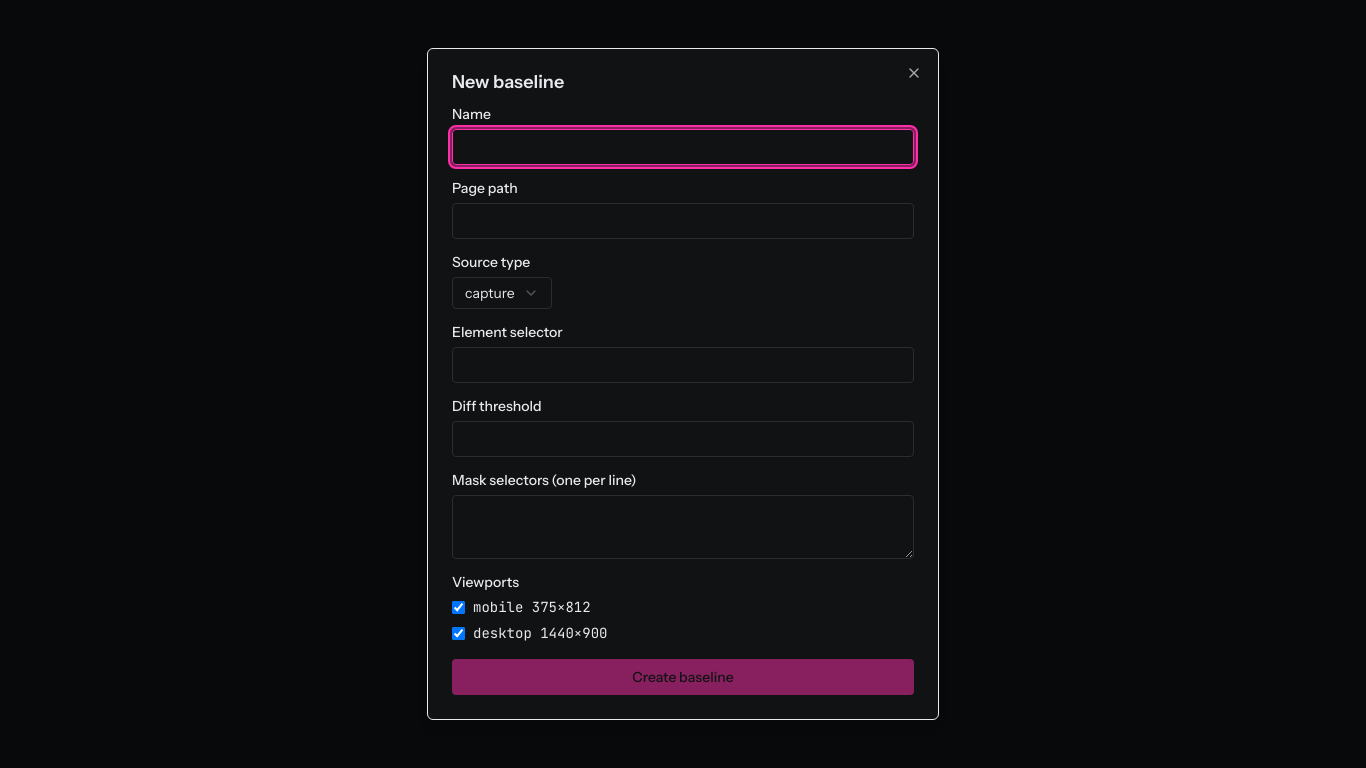
Test: BaselineDialog › disables submit for a page path missing the leading slash
The image size is (1366, 768).
In the field labelled "Name": point(683, 147) [452, 129, 914, 165], type "home"
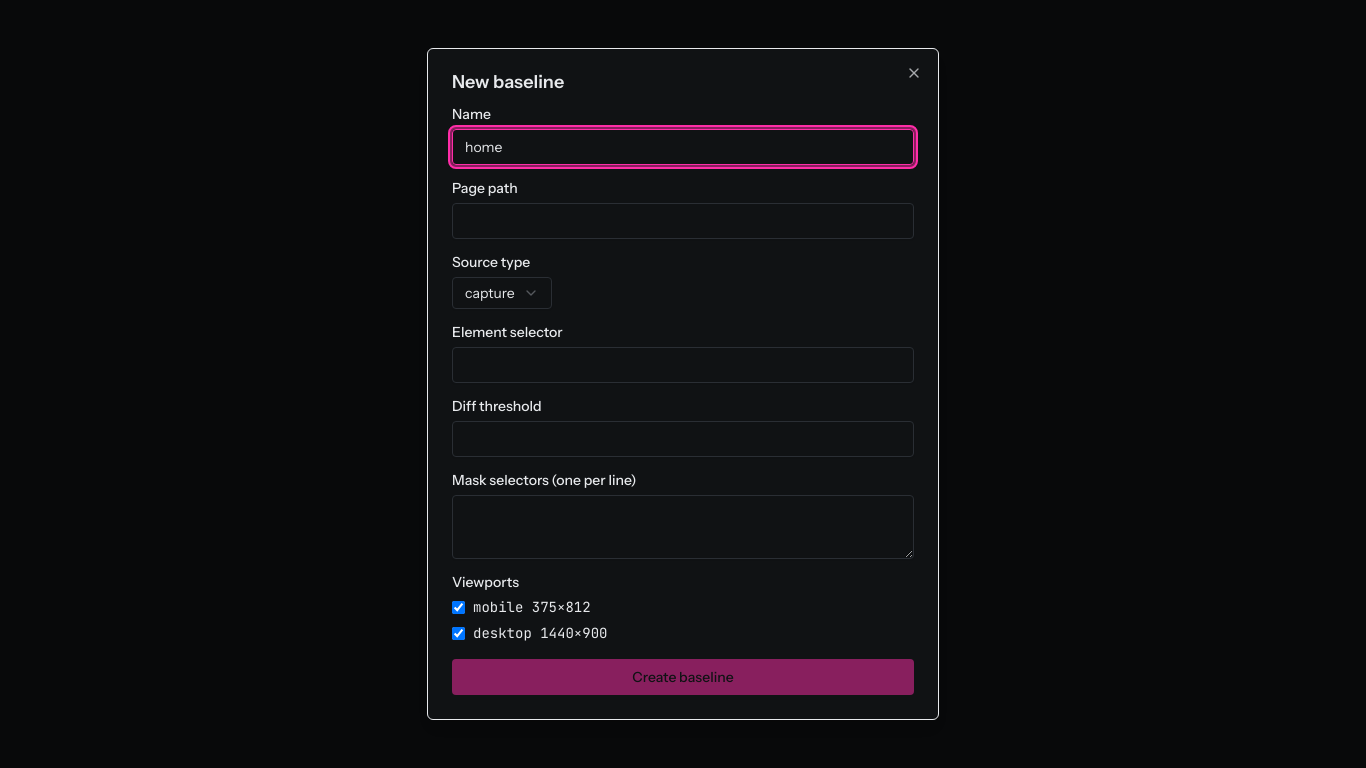
In the field labelled "Page path": point(683, 221) [452, 203, 914, 239], type "home"
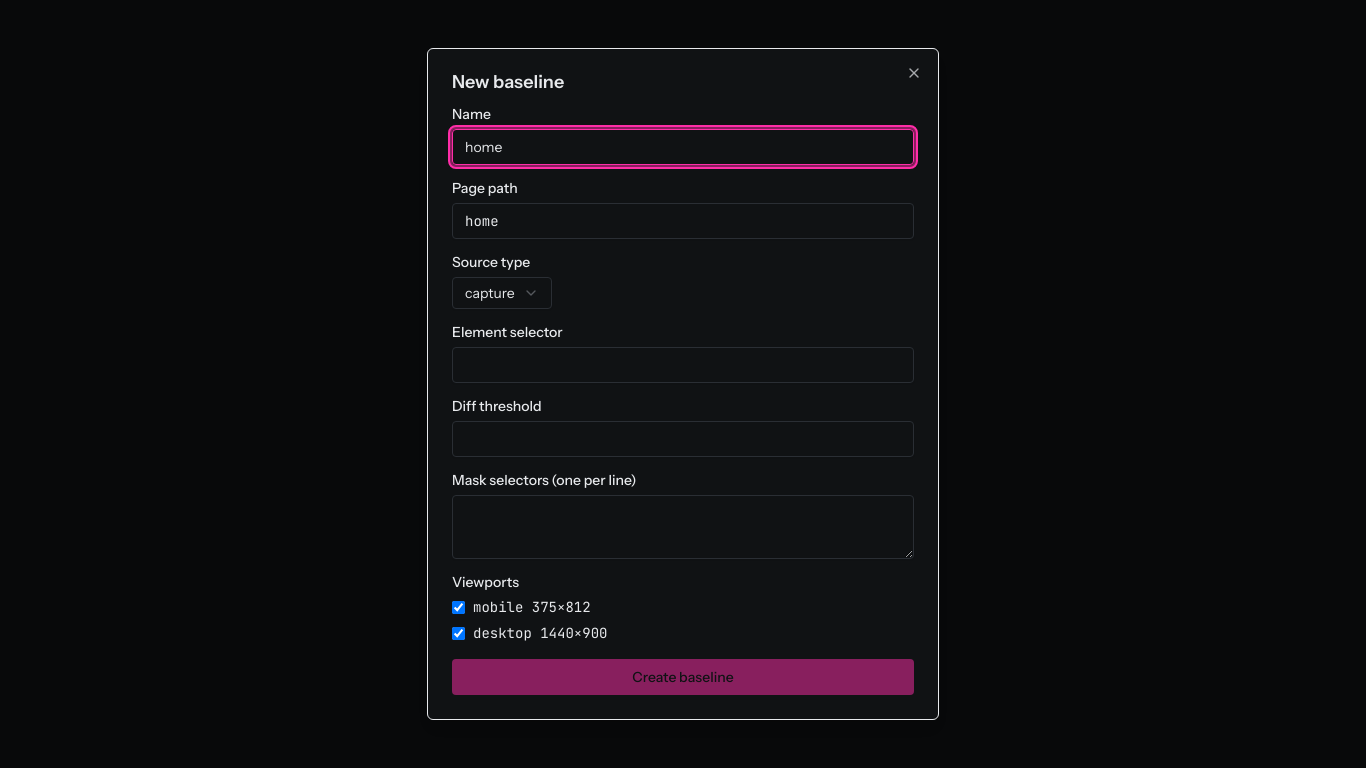
Expected: the button "Create baseline" is disabled, [452, 659, 914, 695]
Replace the text in the field labelled "Page path" with "/home": point(683, 221) [452, 203, 914, 239]
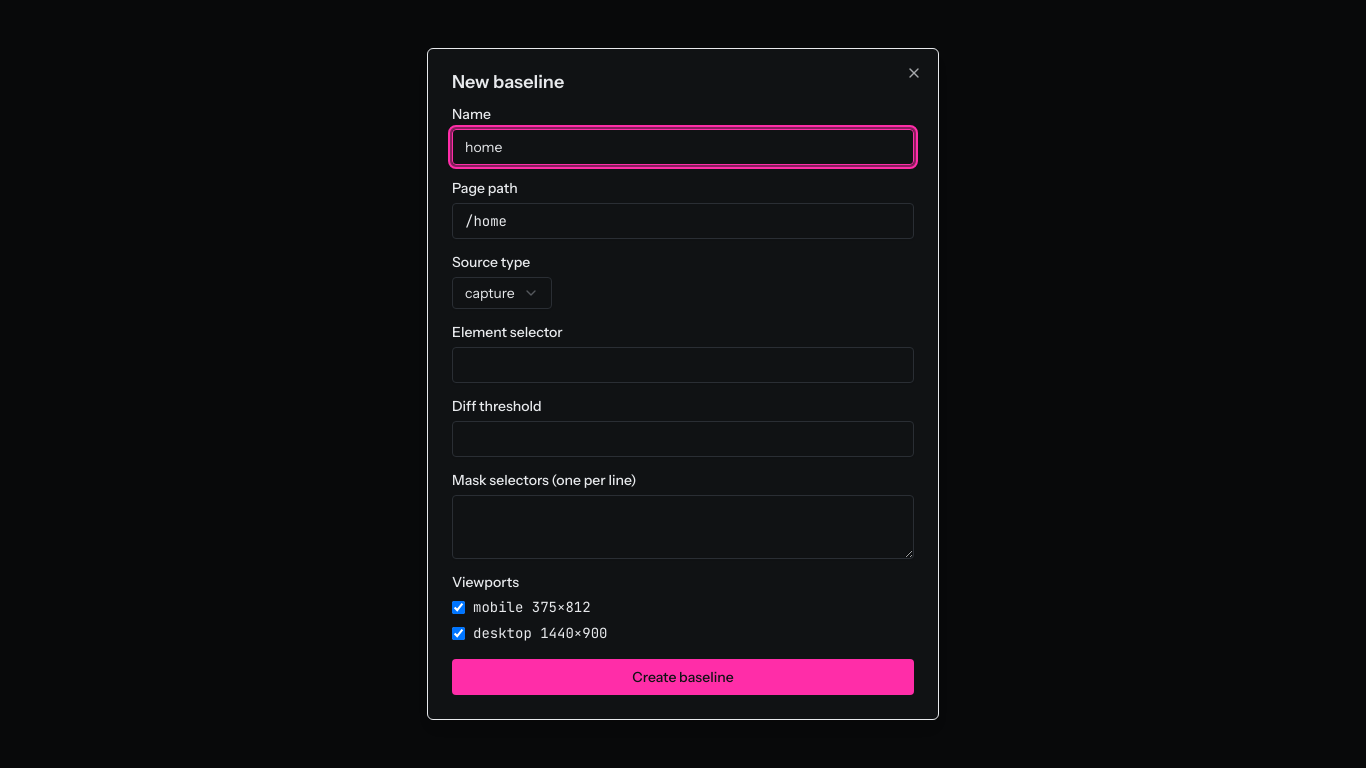
Expected: the button "Create baseline" is enabled, [452, 659, 914, 695]
